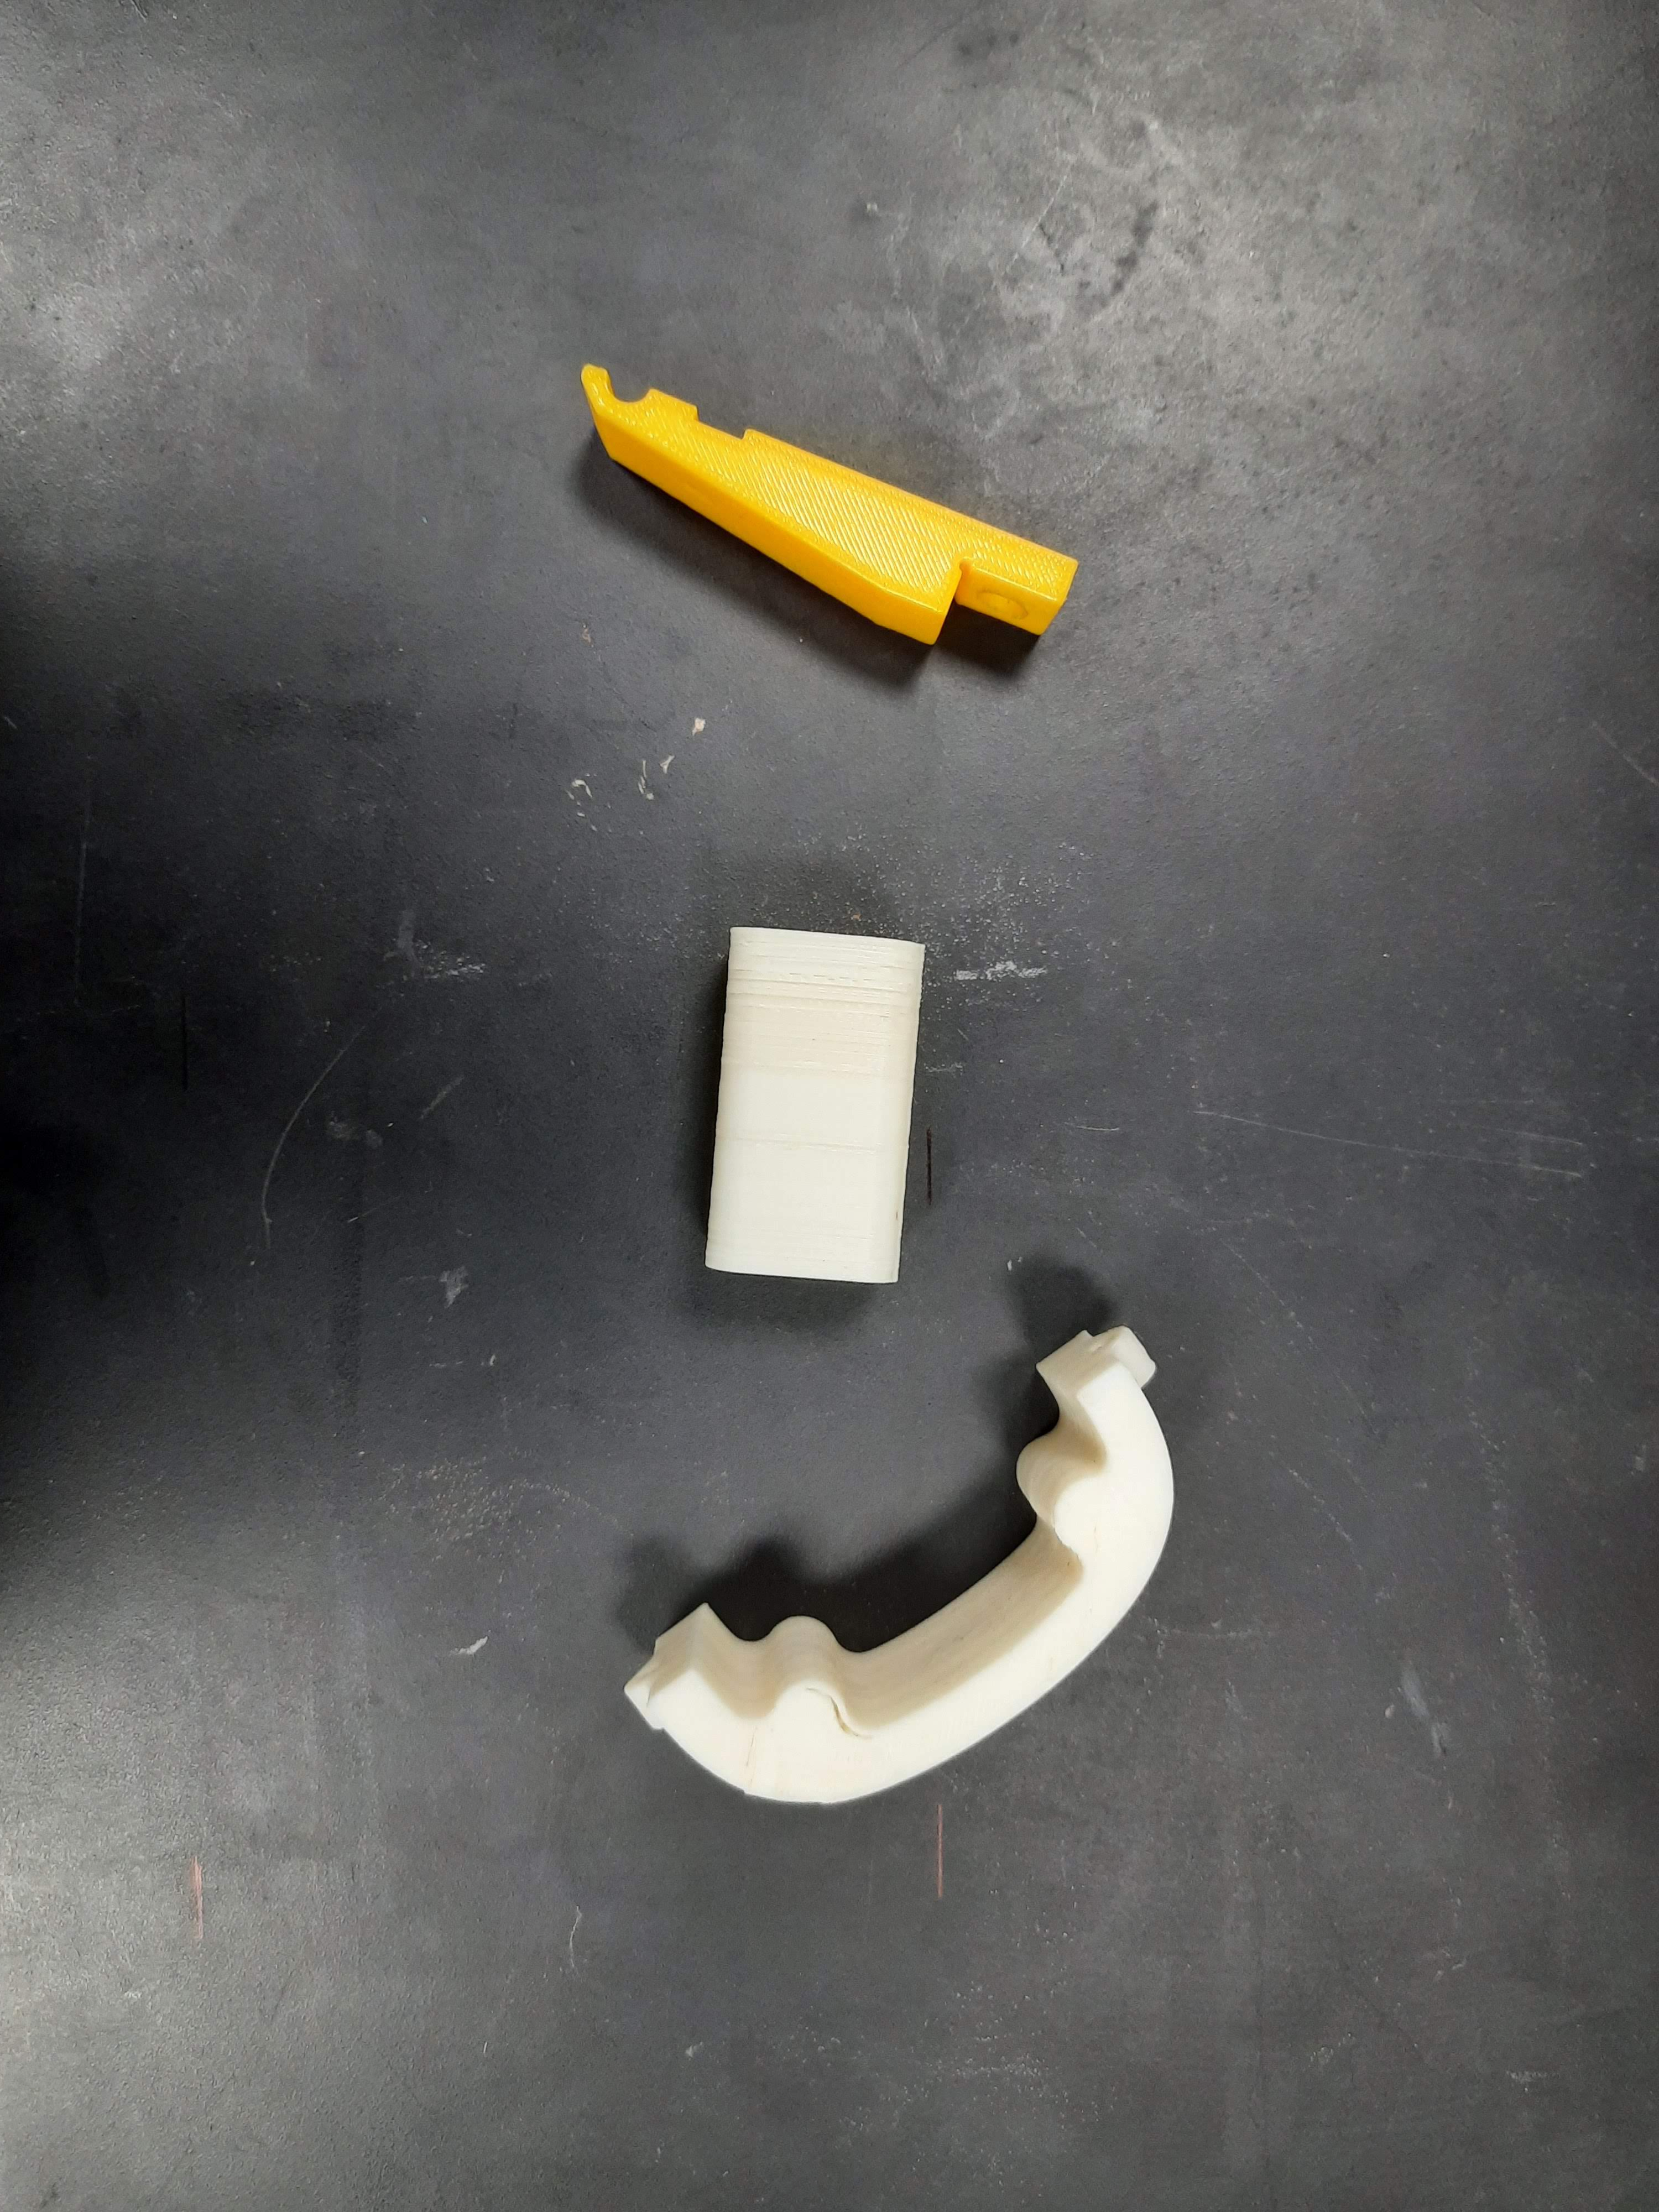ARC: (591, 1296, 1283, 1912)
CUBE: (706, 930, 927, 1282)
YELLOW: (525, 348, 1091, 686)
